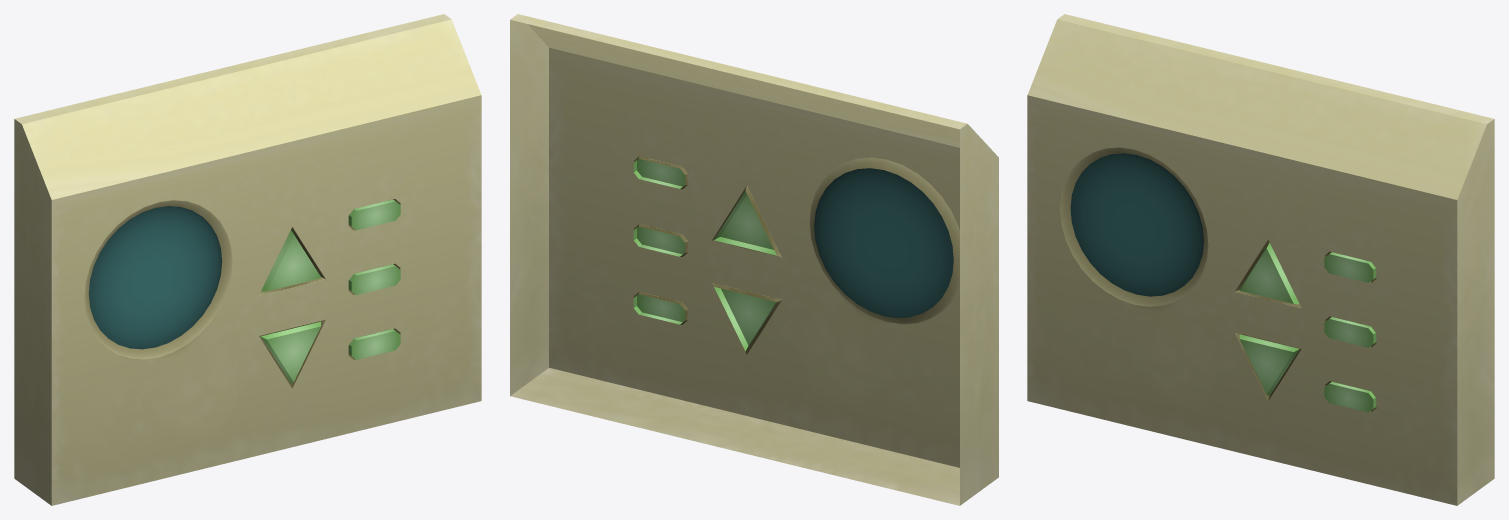
The model's file is thermostat.glb.
3 renders of one model, left to right at view 1: azimuth 30°, elevation 25°; view 2: azimuth 150°, elevation 25°; view 3: azimuth 330°, elevation 25°, orthographic. The views are drawn at different scales.
Visible parts, largest first — view 1: Thermostat_1; view 2: Thermostat_1; view 3: Thermostat_1.
Part boxes in pixels (x1=…): Thermostat_1: x1=14, y1=14, x2=481, y2=505; Thermostat_1: x1=510, y1=14, x2=998, y2=505; Thermostat_1: x1=1027, y1=14, x2=1494, y2=505.
Bounding box in the file's own units: 0.2309 × 0.1847 × 0.036.
Materials: 1 (1 with a texture image).
